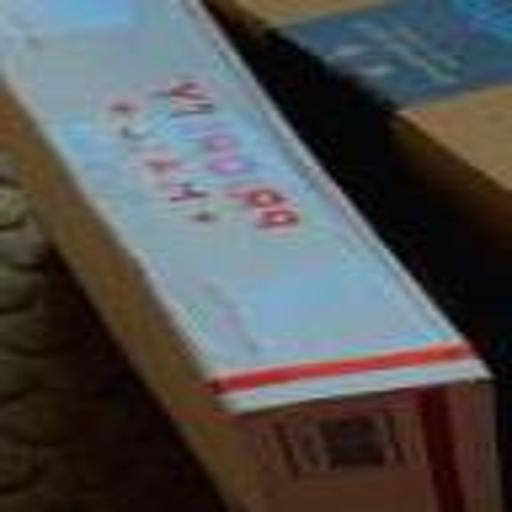Amazon: (262, 0, 512, 190)
Other: (0, 0, 494, 512)
